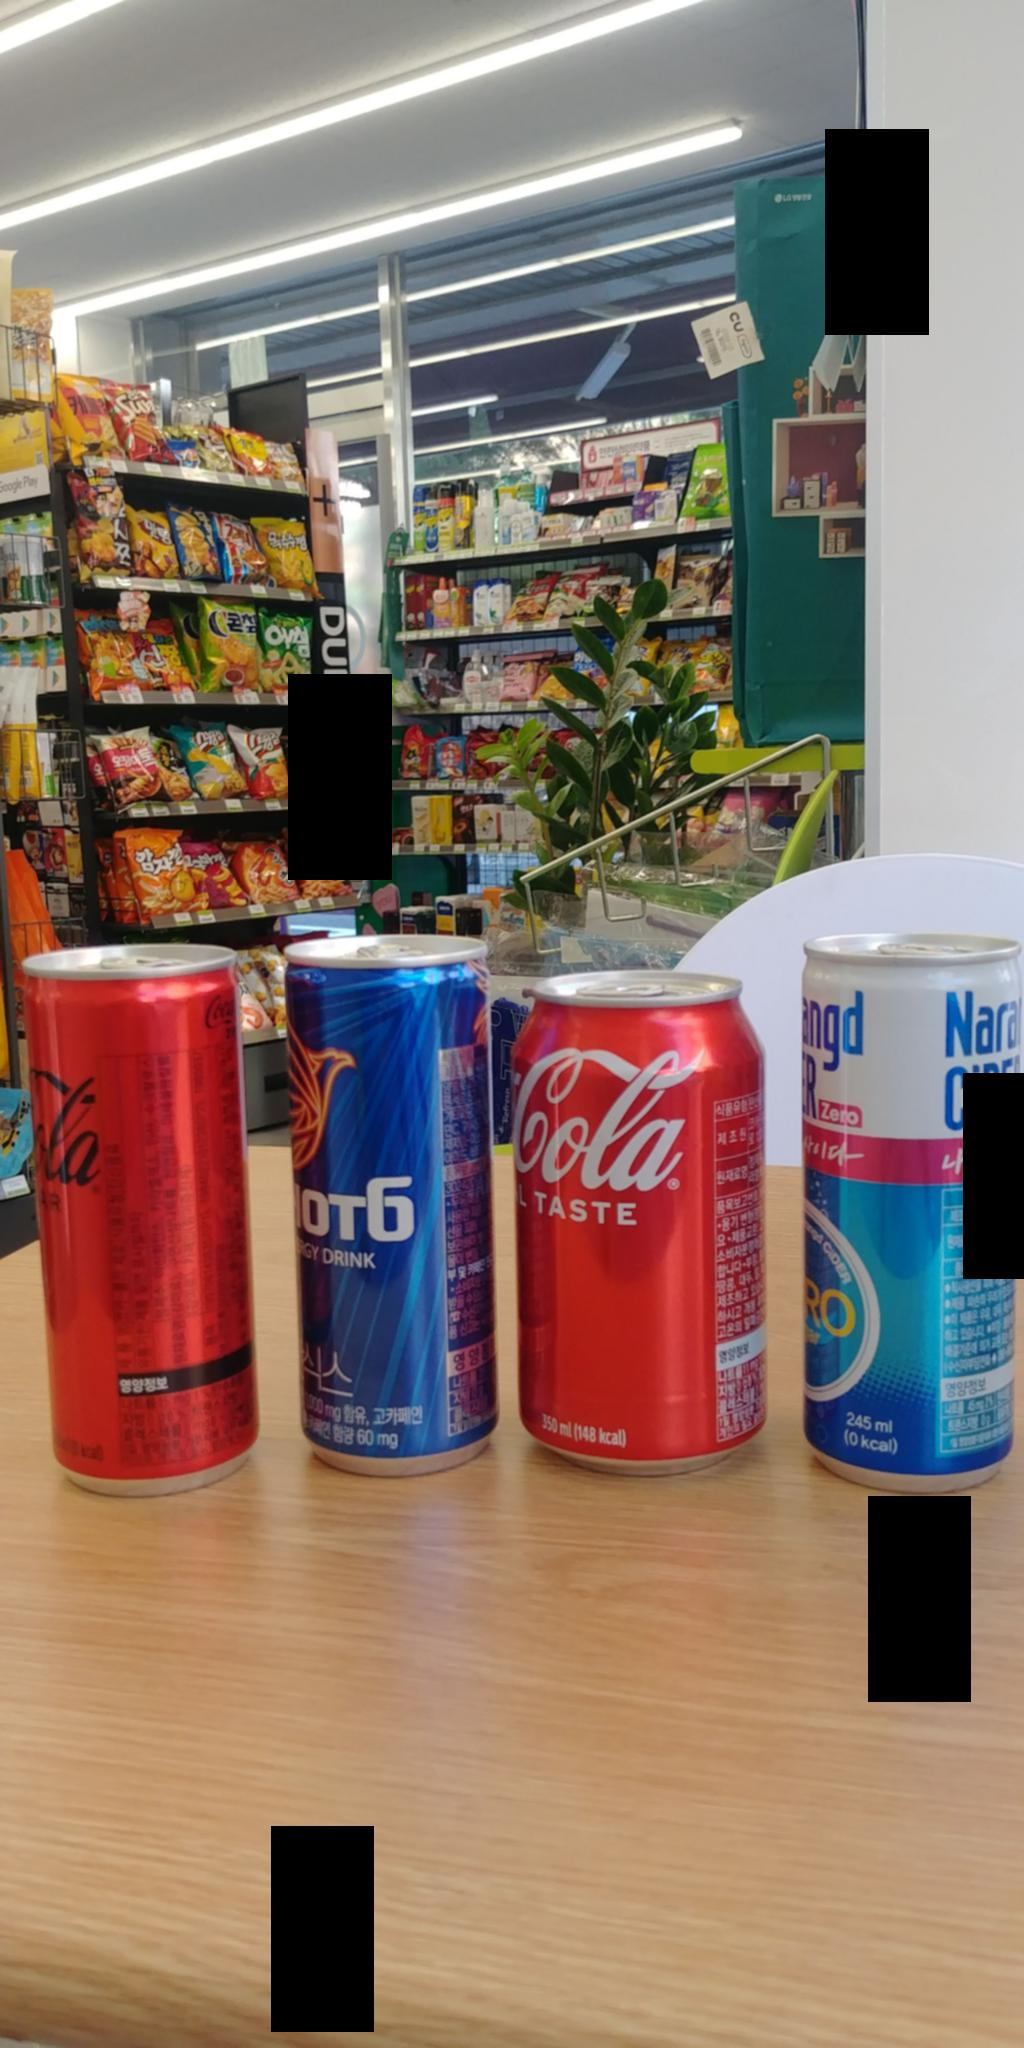cocacola: (503, 965, 806, 1477)
hotsix_org: (273, 910, 509, 1482)
narangdcider: (794, 926, 1024, 1506)
